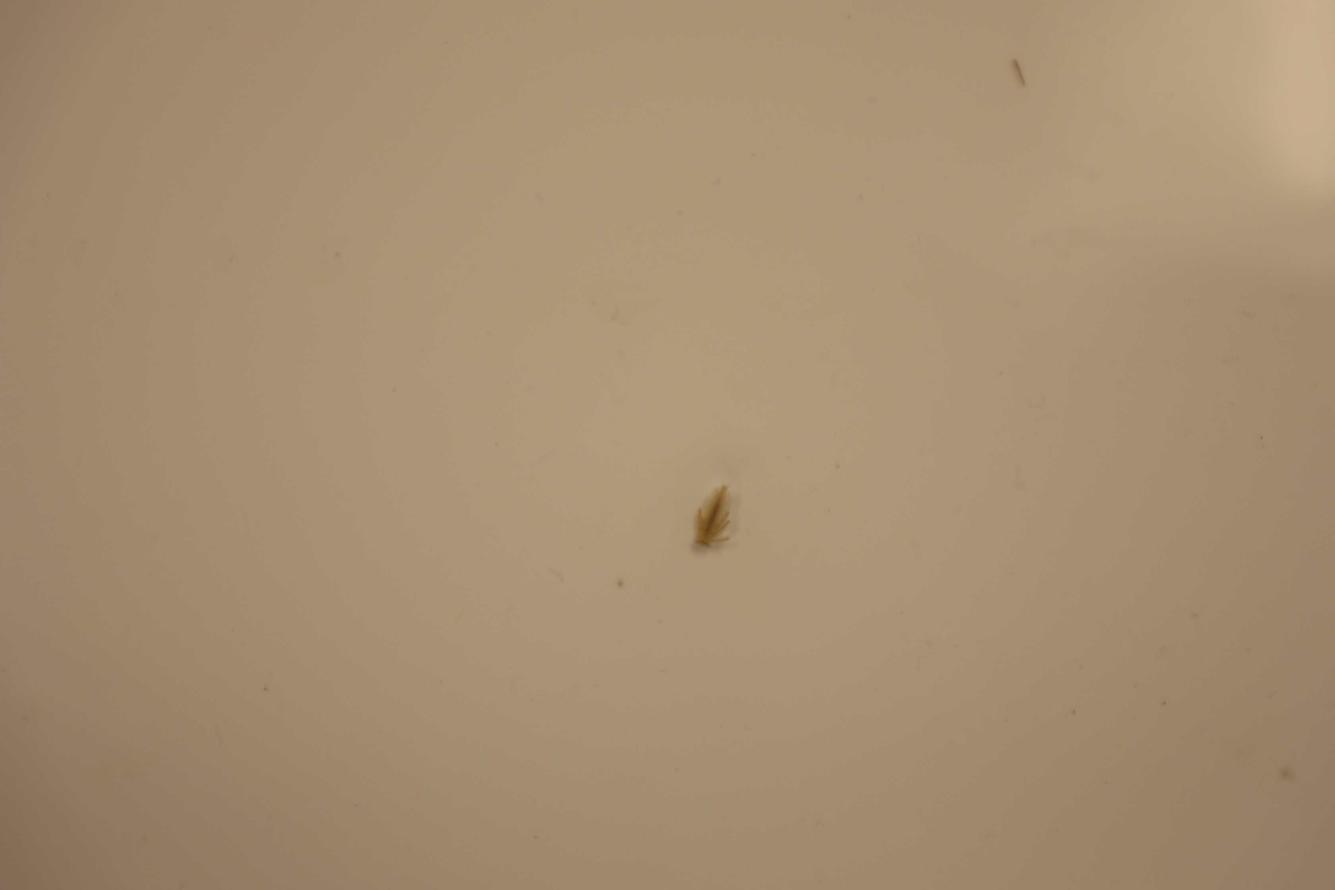Mayfly: (689, 477, 741, 555)
